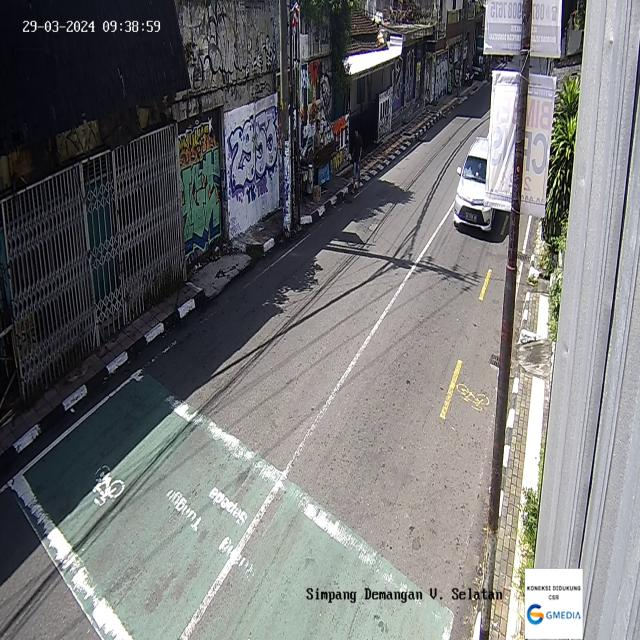car: (453, 135, 495, 232)
